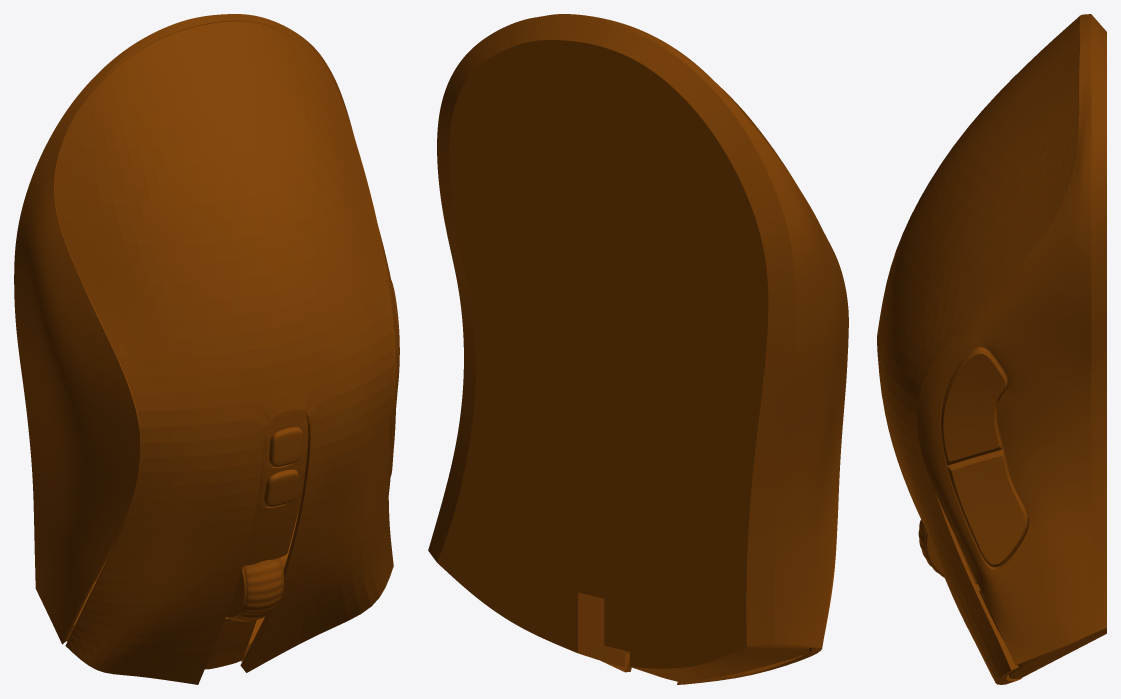
The model's file is mouse.obj.
The picture shows the model from 3 angles, left to right: view 1: azimuth 30°, elevation 25°; view 2: azimuth 150°, elevation 25°; view 3: azimuth 270°, elevation 25°; orthographic projection. The views are drawn at different scales.
Size of the model in its own units: 0.1017 by 0.1793 by 0.0593.
